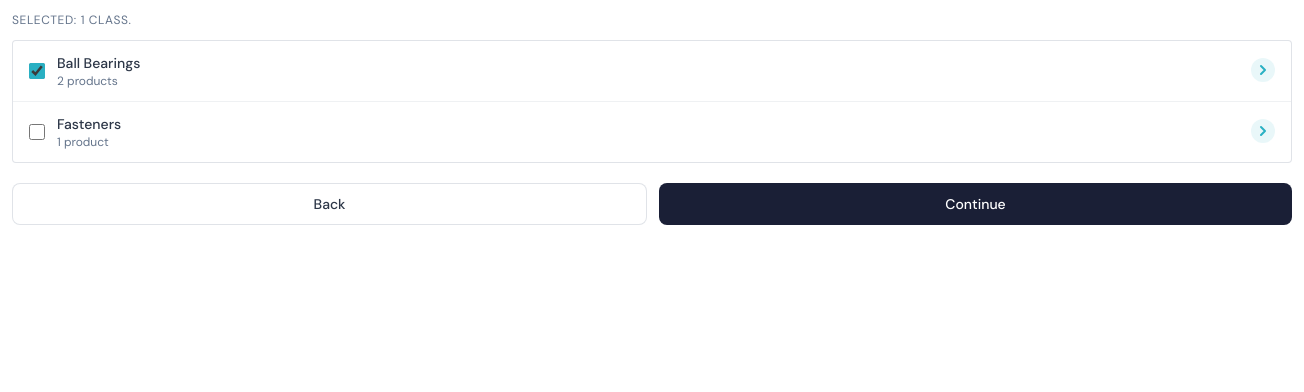
CatalogStep › disables product checkboxes when their class is selected
Expected: the text "Ball Bearings" is shown, [57, 54, 140, 72]
Click the button named "show products in ball bearings": coordinates (1263, 71) [1247, 54, 1279, 88]
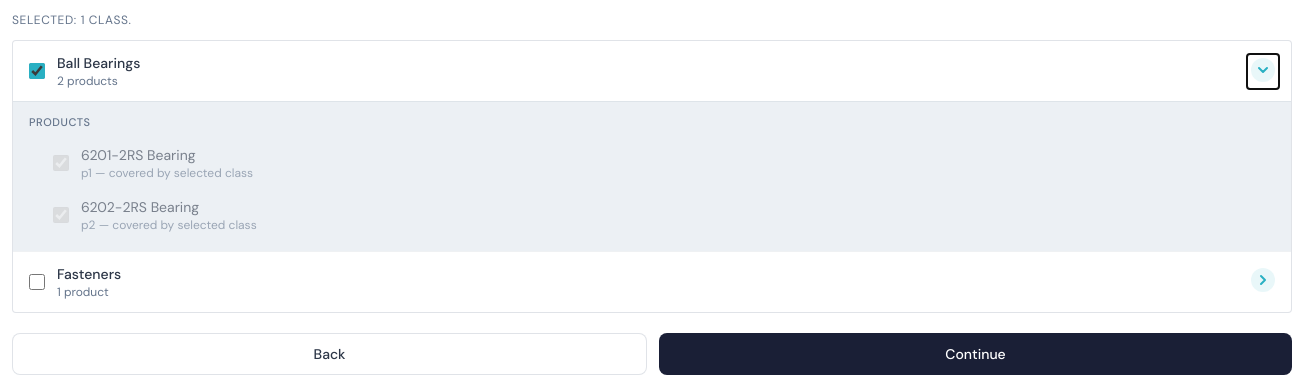
Result: the text "6201-2RS Bearing" is shown at [81, 146, 196, 164]
